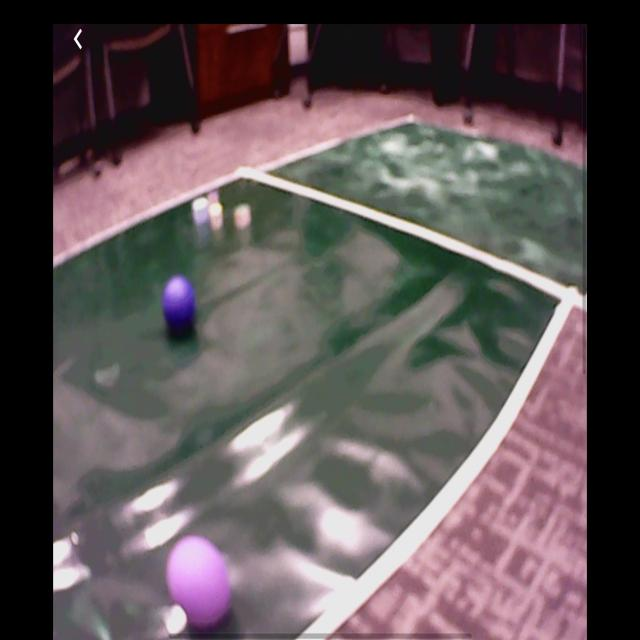ball: (166, 534, 231, 629), (162, 275, 196, 331)
